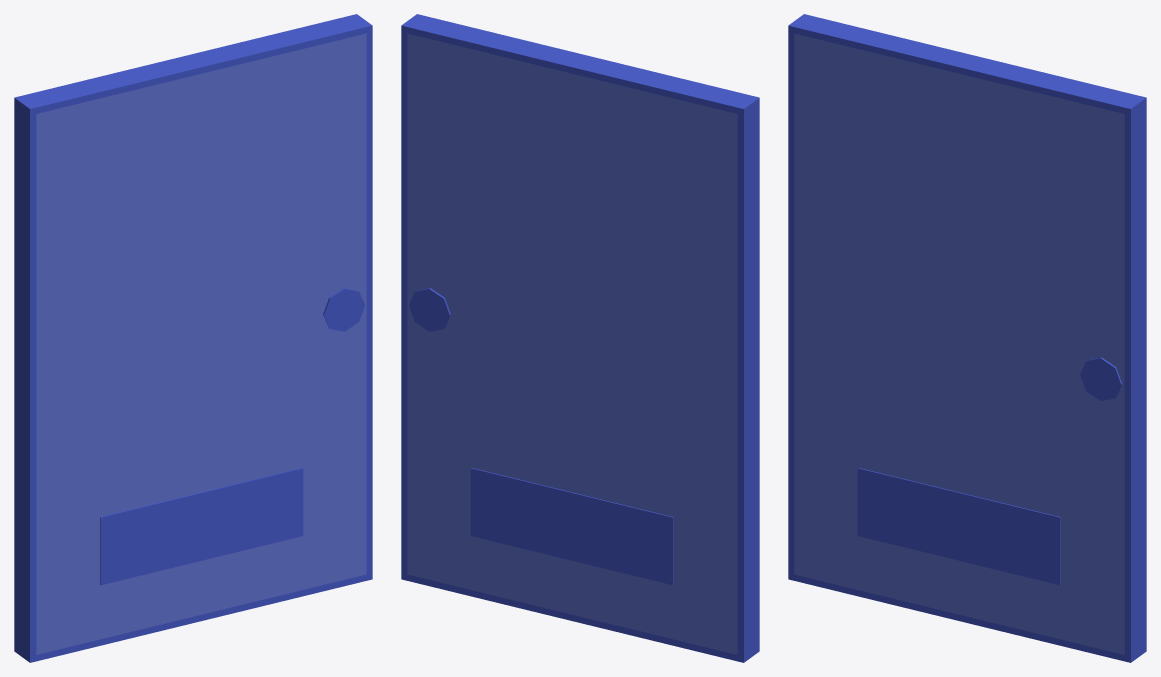
The model's file is door.fbx.
The picture shows the model from 3 angles, left to right: view 1: azimuth 30°, elevation 25°; view 2: azimuth 150°, elevation 25°; view 3: azimuth 330°, elevation 25°; orthographic projection.
Visible parts, largest first — view 1: door; view 2: door; view 3: door.
Boxes of the visible parts, bbox=[...] form: door: bbox=[14, 14, 372, 662]; door: bbox=[401, 14, 759, 662]; door: bbox=[788, 14, 1146, 662].
Bounding box in the file's own units: 167 × 257 × 15.15.
